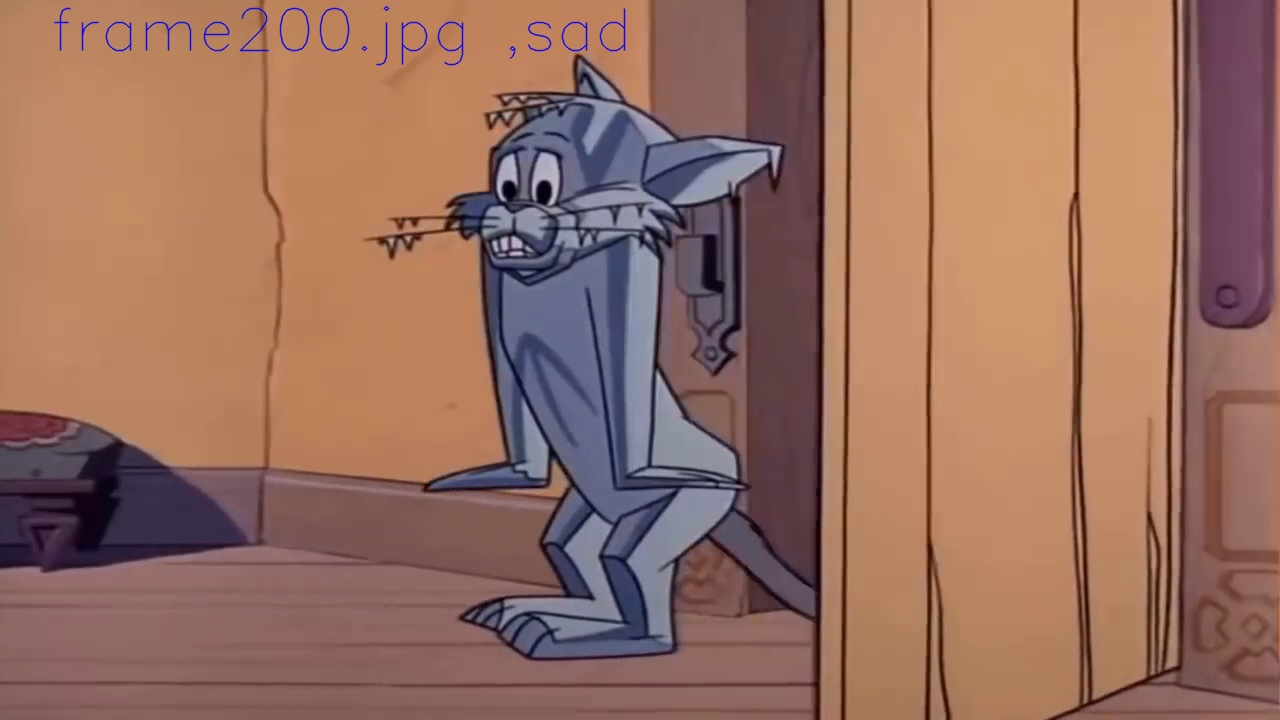sad: (479, 129, 576, 275)
